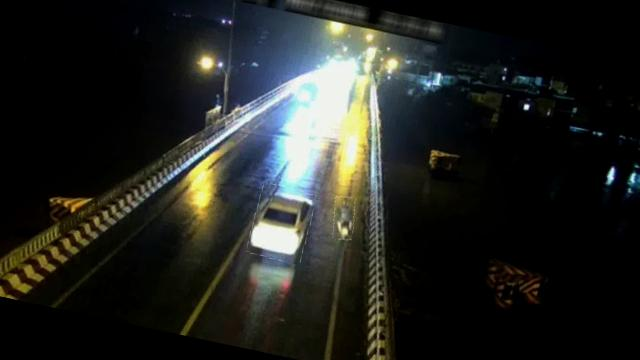Bike: (328, 194, 358, 241)
Car: (246, 182, 318, 264)
